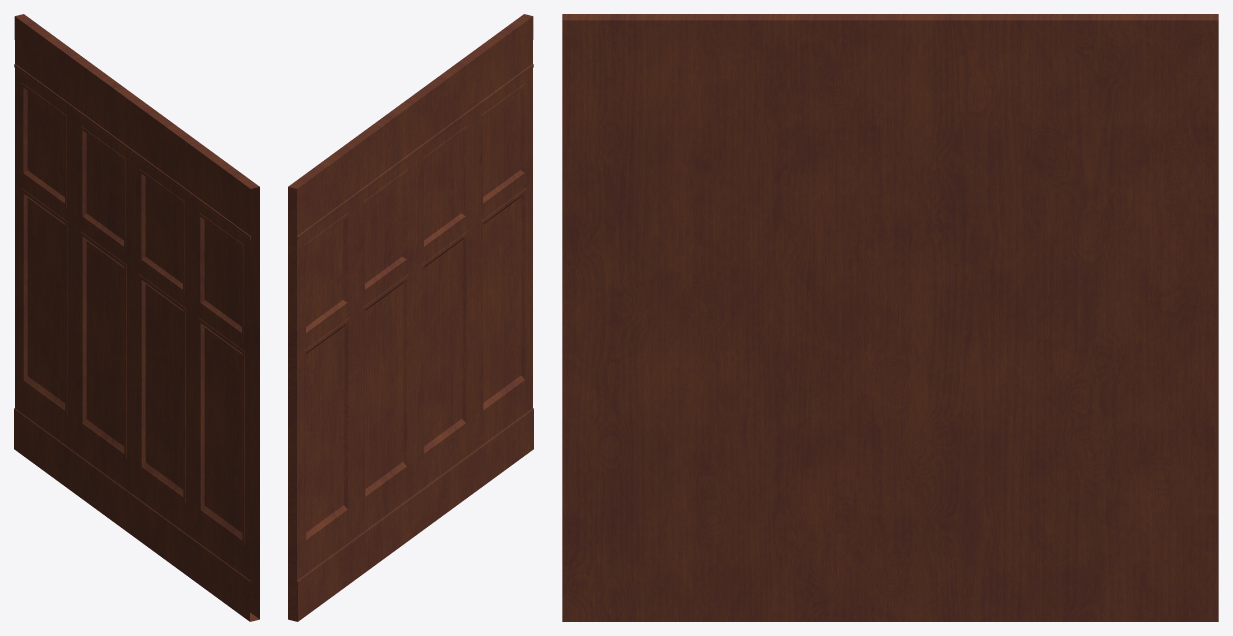
File: SM_VarnishWall01D.fbx
The picture shows the model from 3 angles, left to right: view 1: azimuth 30°, elevation 25°; view 2: azimuth 150°, elevation 25°; view 3: azimuth 270°, elevation 25°; orthographic projection. The views are drawn at different scales.
Parts seen in each view (by area): view 1: SM_VarnishWall01D; view 2: SM_VarnishWall01D; view 3: SM_VarnishWall01D.
Part boxes in pixels (x1=…): SM_VarnishWall01D: x1=14, y1=14, x2=259, y2=621; SM_VarnishWall01D: x1=288, y1=14, x2=533, y2=621; SM_VarnishWall01D: x1=562, y1=14, x2=1218, y2=621.
Bounding box in the file's own units: 4.4 × 182 × 184.
1 material, 1 textured.
